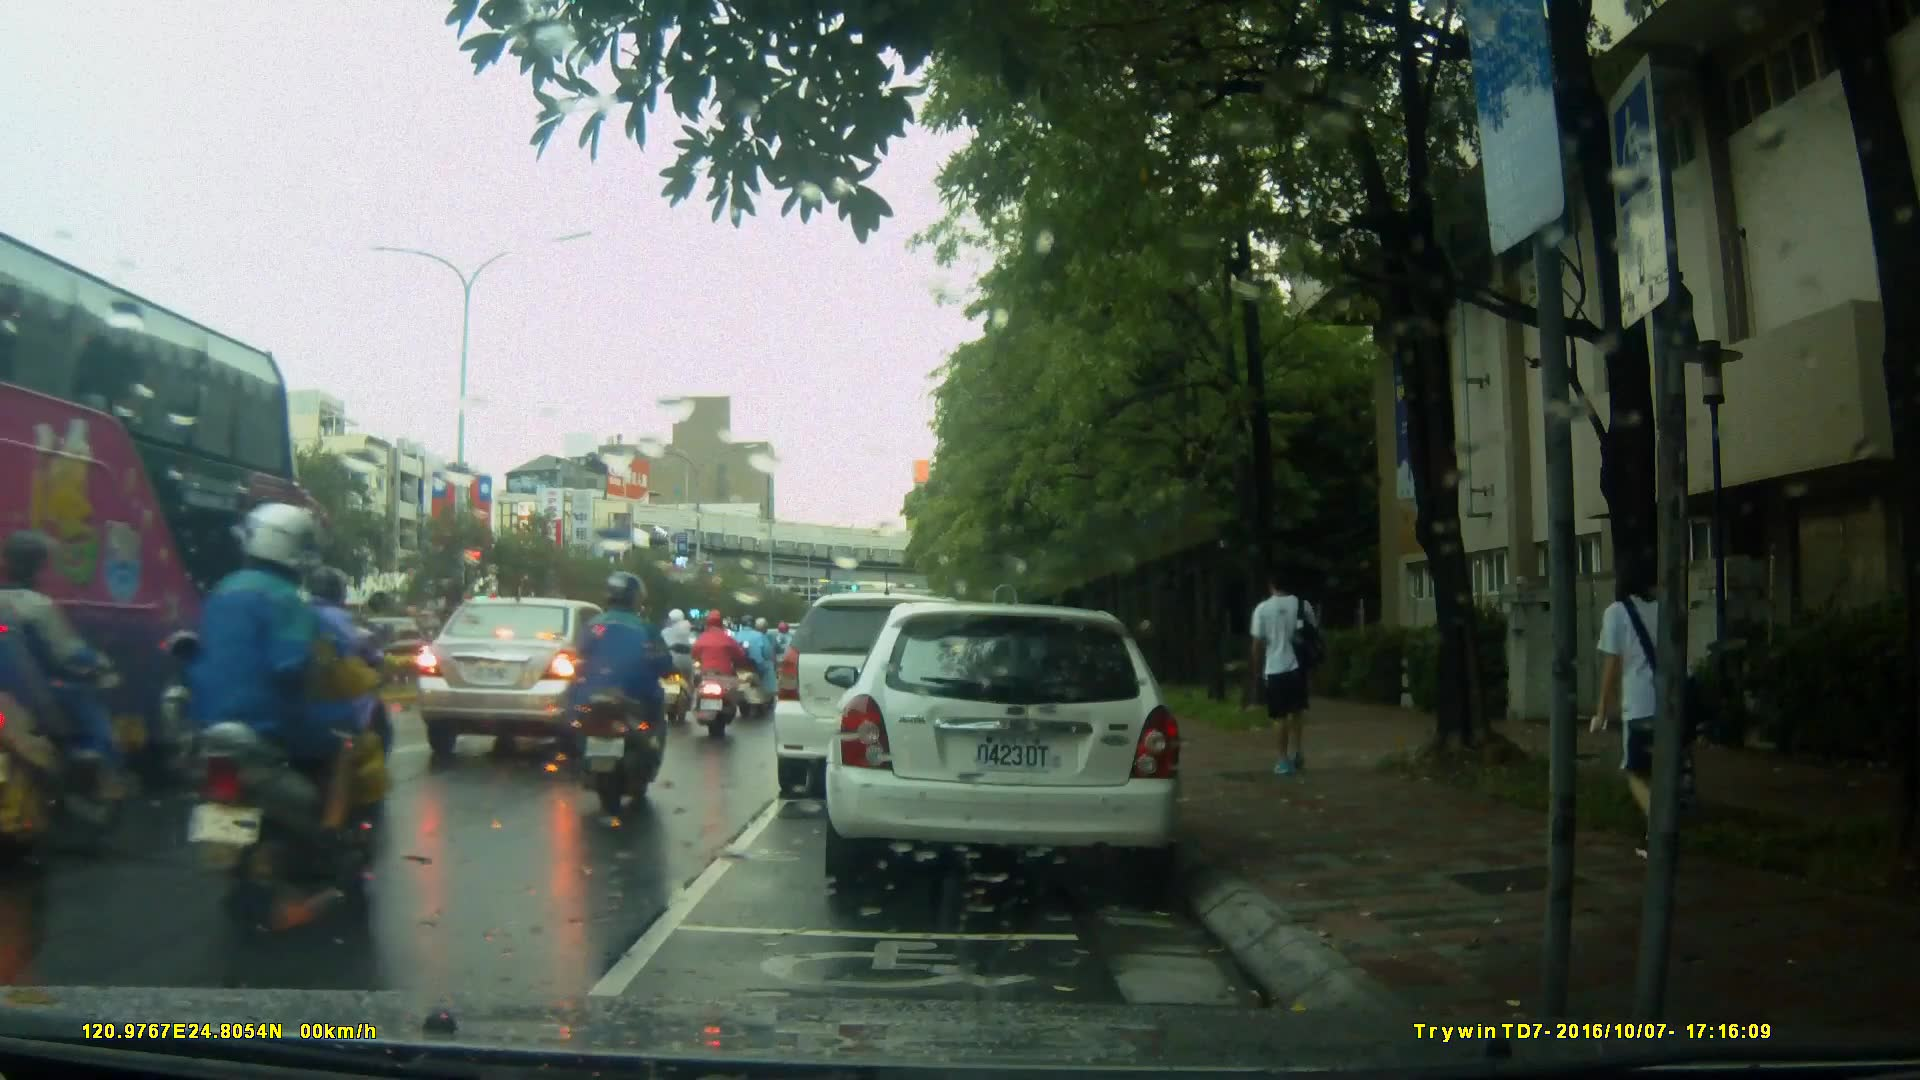pedestrian: (1577, 538, 1696, 873), (246, 553, 393, 793), (1244, 562, 1339, 795)
rider: (192, 505, 379, 940), (1, 528, 152, 878), (560, 569, 677, 808), (688, 605, 749, 739), (647, 604, 700, 724), (730, 612, 774, 712), (765, 619, 801, 709)
vehicle: (10, 221, 322, 894), (811, 604, 1188, 882), (774, 595, 995, 802), (417, 594, 659, 760)
